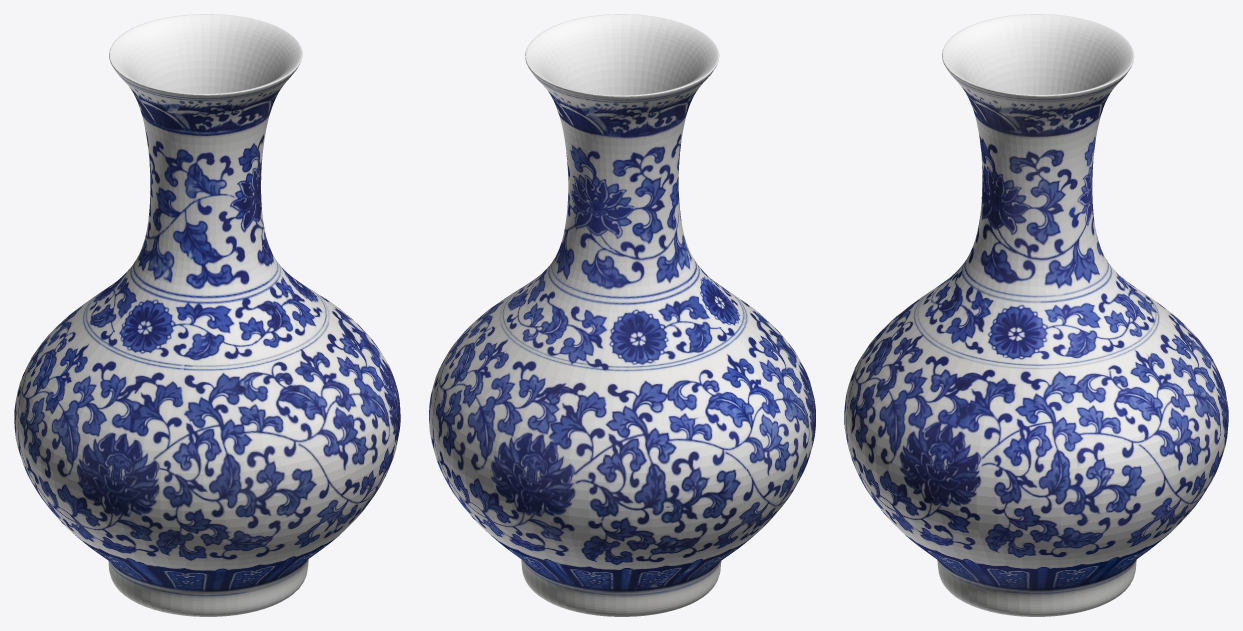
3 renders of one model, left to right at view 1: azimuth 30°, elevation 25°; view 2: azimuth 150°, elevation 25°; view 3: azimuth 270°, elevation 25°, orthographic.
Visible parts, largest first — view 1: geometry_0; view 2: geometry_0; view 3: geometry_0.
Boxes of the visible parts, x1=… form: geometry_0: x1=14, y1=14, x2=400, y2=616; geometry_0: x1=429, y1=14, x2=815, y2=616; geometry_0: x1=844, y1=14, x2=1228, y2=616.
Bounding box in the file's own units: 0.669 × 1 × 0.6656.
1 material, 1 textured.
